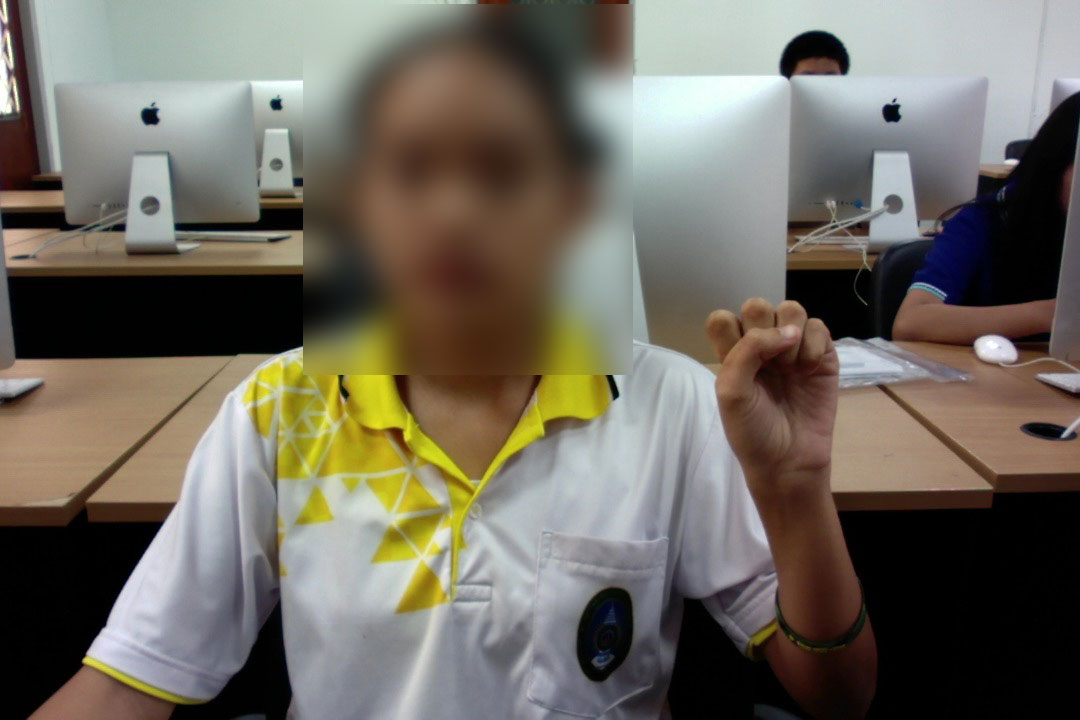sor: (698, 288, 848, 501)
